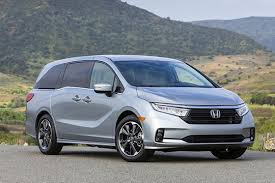Honda: (24, 57, 256, 162)
